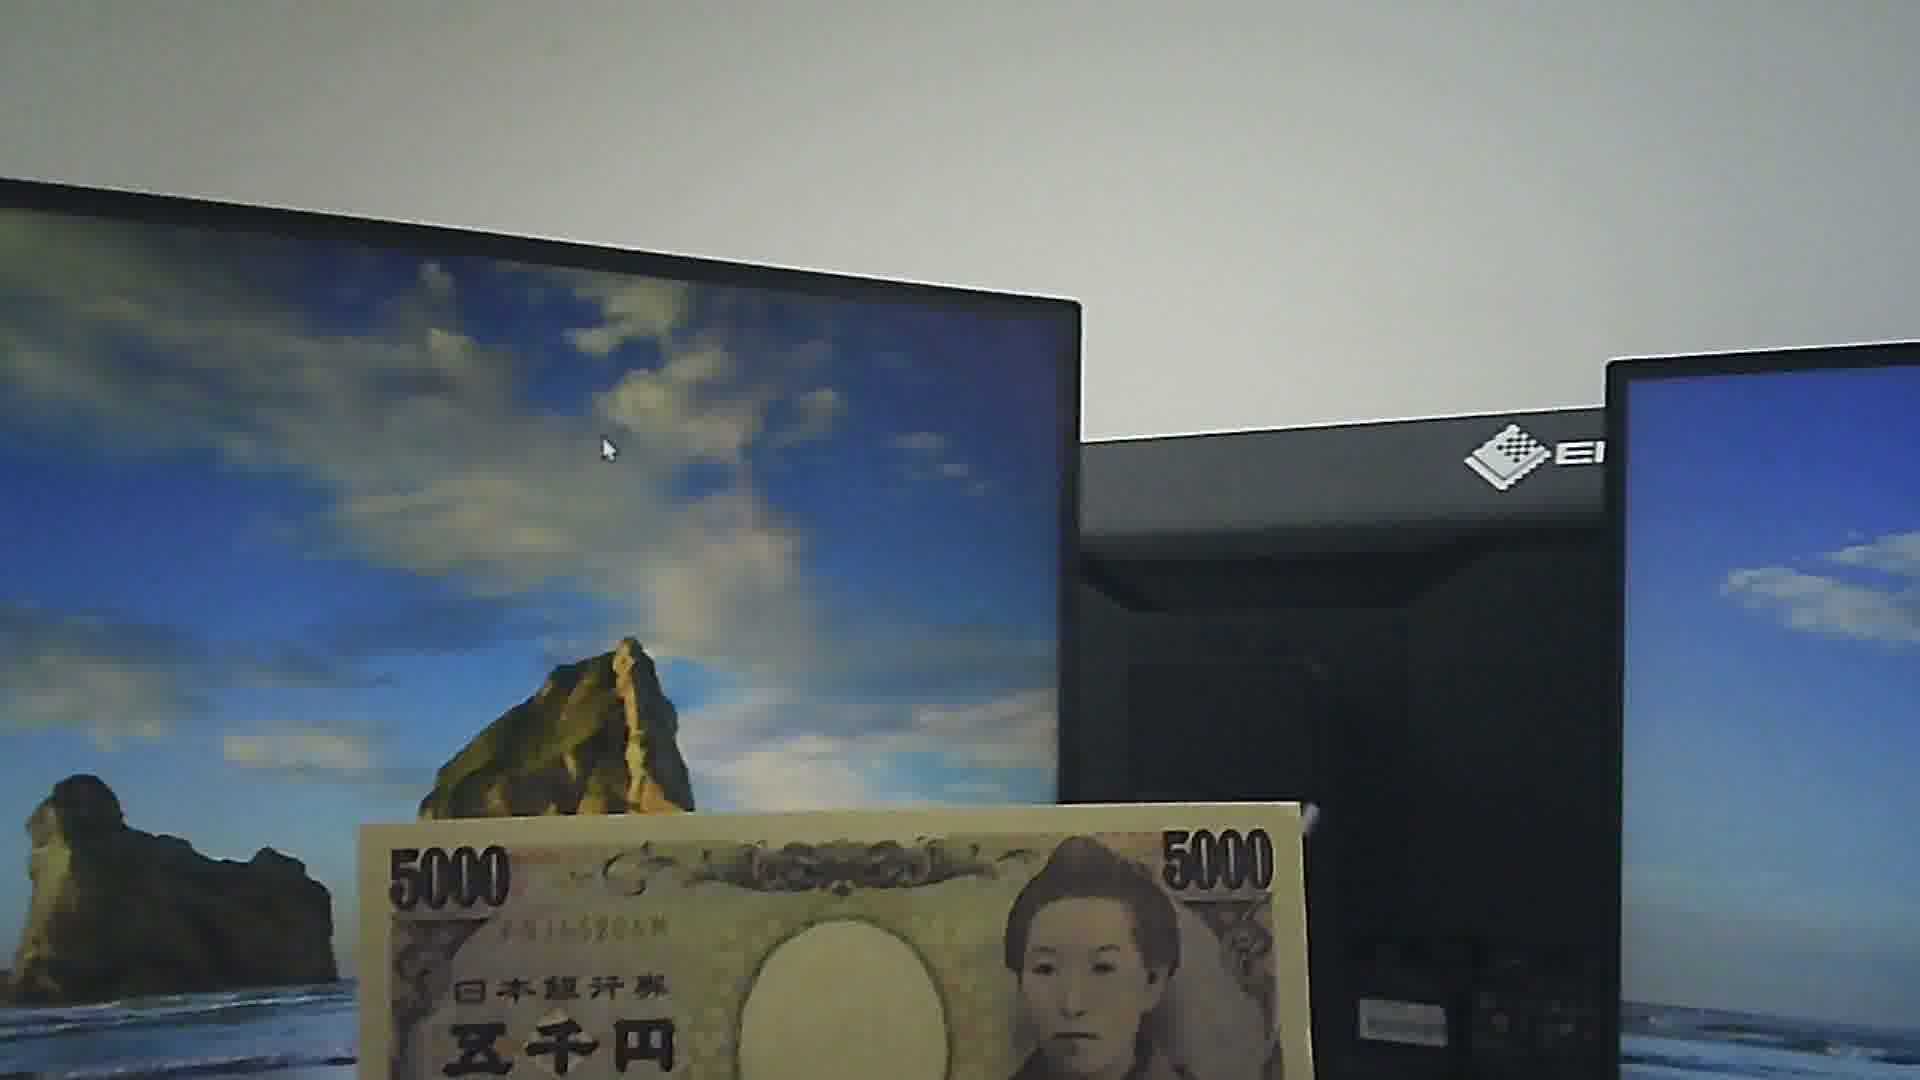5,000 Yen: (347, 799, 1279, 1079)
